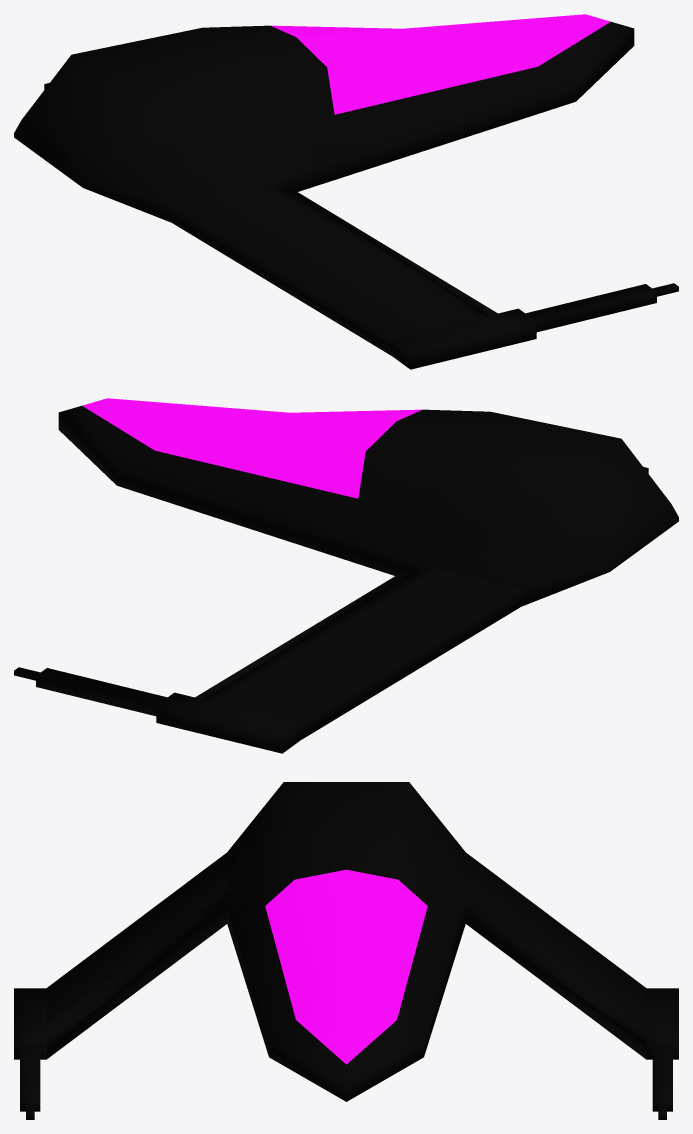
File: SpaceShip.FBX
3 renders of one model, top to bottom at view 1: azimuth 30°, elevation 25°; view 2: azimuth 150°, elevation 25°; view 3: azimuth 270°, elevation 25°, orthographic. The views are drawn at different scales.
Visible parts, largest first — view 1: SpaceShip; view 2: SpaceShip; view 3: SpaceShip.
Boxes of the visible parts, bbox=[...] form: SpaceShip: bbox=[14, 14, 678, 369]; SpaceShip: bbox=[14, 398, 678, 753]; SpaceShip: bbox=[14, 782, 678, 1119].
Bounding box in the file's own units: 160 × 173 × 48.22.
